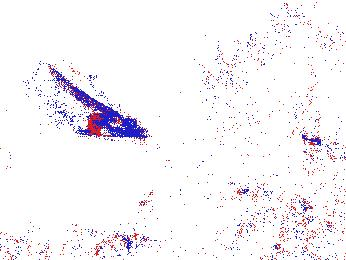X-ray fish: (72, 230, 140, 260)
glassfish: (29, 51, 150, 143), (303, 134, 346, 162)
siberian prawn: (219, 162, 346, 205), (224, 209, 327, 260)
